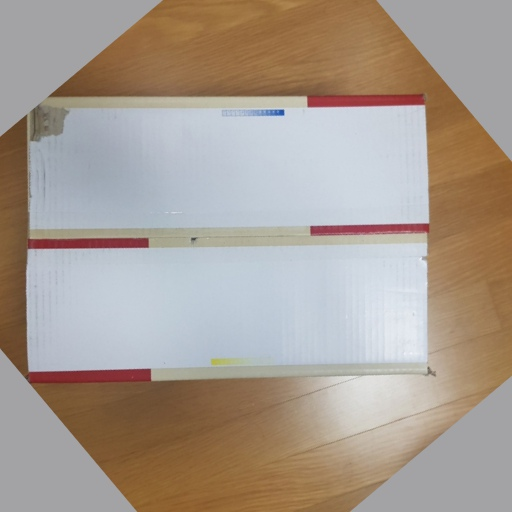Paper_0: (18, 93, 439, 390)
